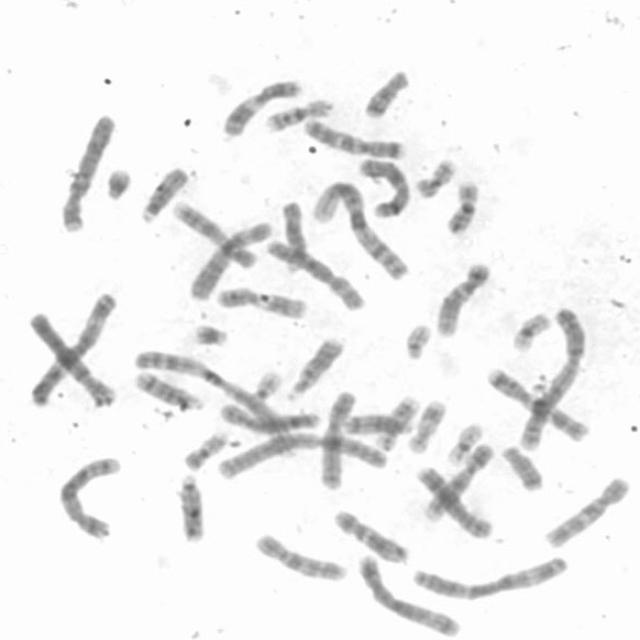A1: (130, 347, 321, 439), (307, 176, 412, 283)
A2: (514, 303, 587, 452), (215, 430, 392, 480)
A3: (25, 294, 119, 409), (410, 553, 571, 601)
B4: (25, 304, 119, 410), (57, 109, 117, 233)
B5: (354, 553, 462, 637), (54, 454, 122, 541)
C10: (541, 473, 632, 550), (250, 530, 348, 584)
C11: (218, 76, 301, 138), (213, 283, 309, 320)
C12: (329, 506, 411, 565), (432, 258, 492, 338)
C6: (261, 236, 367, 312), (185, 218, 274, 302)
C7: (482, 364, 592, 443), (300, 116, 406, 160)
C8: (411, 463, 497, 541), (216, 400, 321, 433)
C9: (167, 198, 260, 271), (421, 441, 495, 523)
D13: (284, 334, 346, 400), (175, 470, 207, 544)
D14: (128, 367, 204, 413), (340, 410, 414, 436)
D15: (137, 163, 190, 225), (278, 199, 307, 275)
E16: (260, 95, 336, 134), (442, 177, 482, 237)
E17: (371, 392, 420, 452), (404, 396, 448, 455)
E18: (360, 66, 410, 120), (498, 442, 546, 493)
F19: (508, 309, 552, 353), (443, 420, 484, 466)
F20: (178, 428, 230, 471), (412, 155, 458, 199)
G21: (101, 163, 133, 202), (188, 320, 231, 348)
G22: (243, 369, 287, 408), (401, 320, 434, 361)
X: (316, 386, 358, 491), (354, 154, 411, 219)
